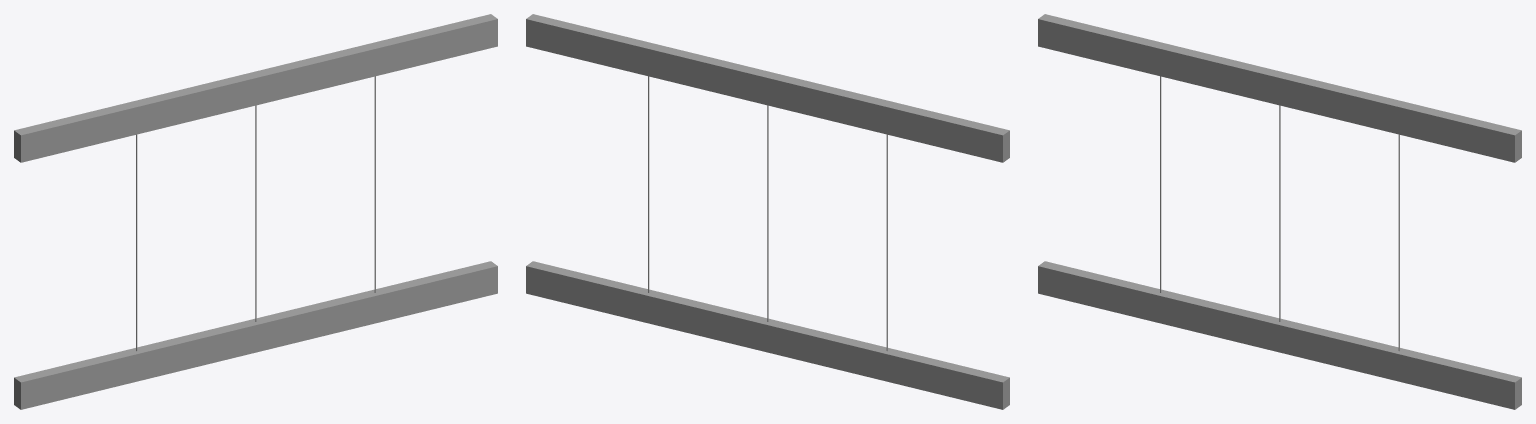
The model's file is Stage.obj.
The picture shows the model from 3 angles, left to right: view 1: azimuth 30°, elevation 25°; view 2: azimuth 150°, elevation 25°; view 3: azimuth 330°, elevation 25°; orthographic projection.
Visible parts, largest first — view 1: 円柱; view 2: 円柱; view 3: 円柱.
Boxes of the visible parts, left/top/right/bottom form: 円柱: left=14, top=14, right=497, bottom=409; 円柱: left=526, top=14, right=1009, bottom=409; 円柱: left=1038, top=14, right=1521, bottom=409.
Bounding box in the file's own units: 80 × 44 × 2.
